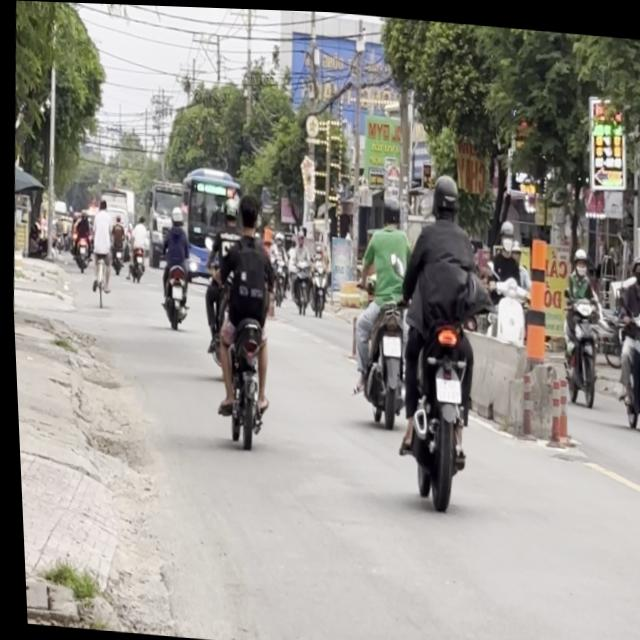helmet: (430, 167, 462, 217), (379, 190, 400, 222)
licenseplate: (384, 162, 492, 507), (195, 186, 284, 448), (341, 186, 417, 425)
motorcyclist: (236, 190, 261, 233)
nohelmet: (434, 374, 460, 397), (382, 330, 400, 352)
